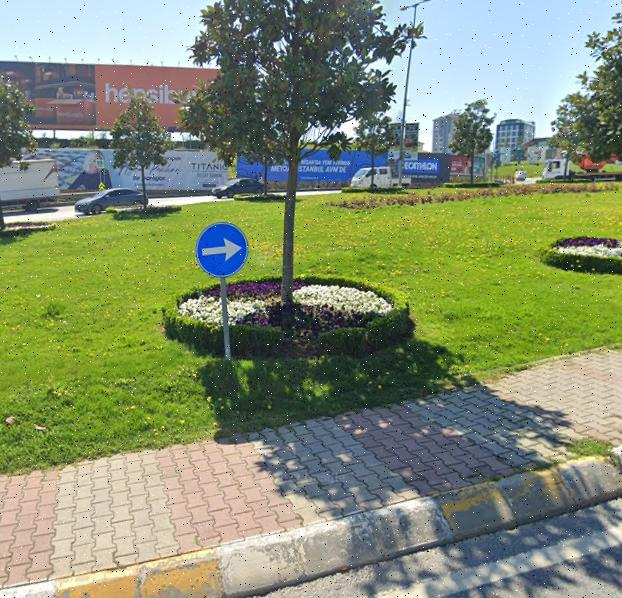turnright: (196, 222, 247, 276)
